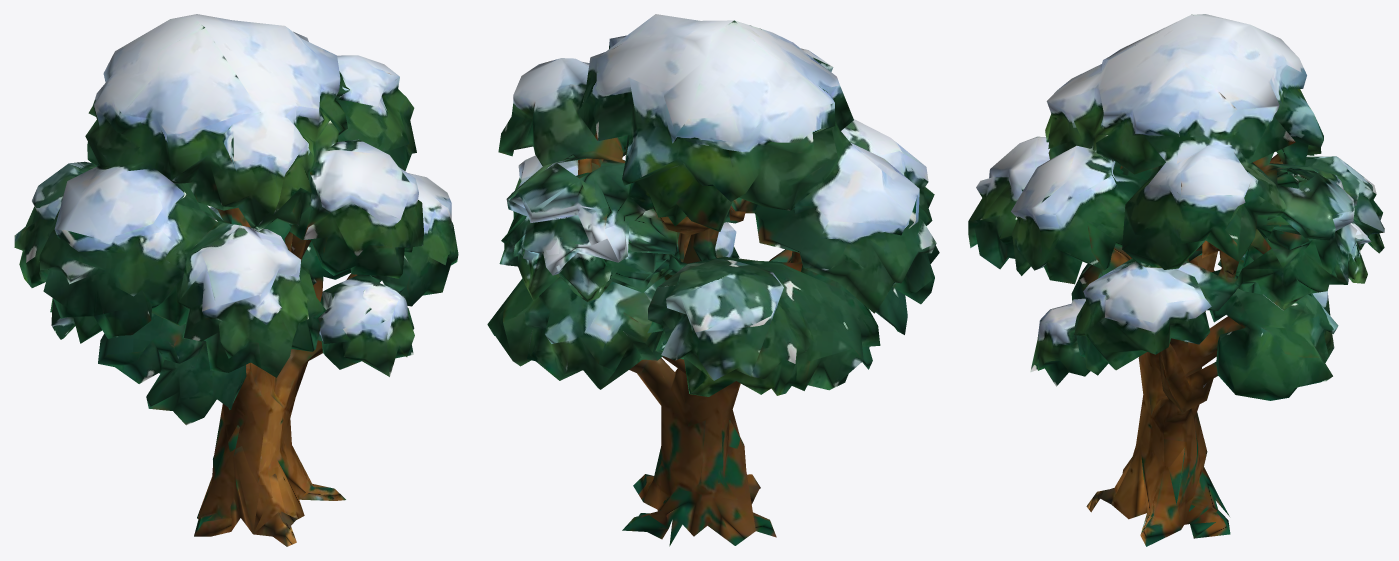
Rendered from tree_snow_oak.glb.
3 renders of one model, left to right at view 1: azimuth 30°, elevation 25°; view 2: azimuth 150°, elevation 25°; view 3: azimuth 270°, elevation 25°, orthographic. The views are drawn at different scales.
Parts seen in each view (by area): view 1: BakeLow; view 2: BakeLow; view 3: BakeLow.
Boxes of the visible parts, x1,y1,x2,y2 form: BakeLow: [14, 14, 458, 546]; BakeLow: [487, 14, 939, 546]; BakeLow: [968, 14, 1384, 546].
Size of the model in its own units: 0.7073 by 0.8438 by 0.6597.
Materials: 1 (1 with a texture image).
